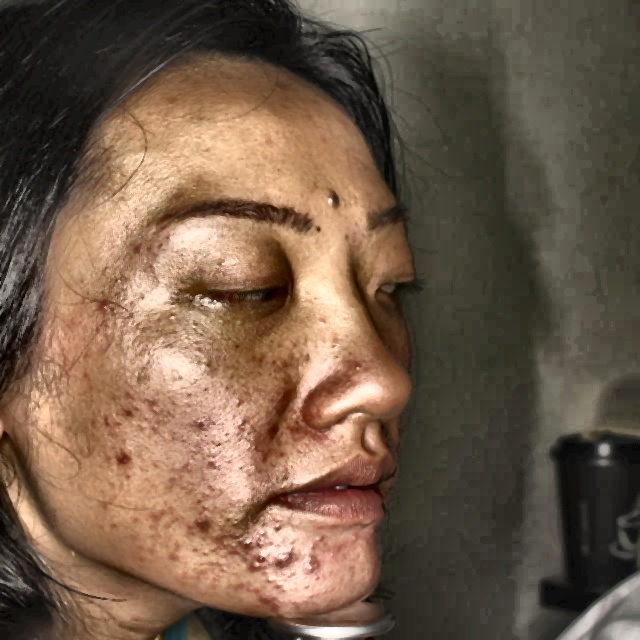pustule: (183, 508, 226, 540), (268, 544, 306, 570), (230, 540, 259, 574), (109, 444, 138, 471), (248, 584, 271, 607), (305, 550, 320, 574)
